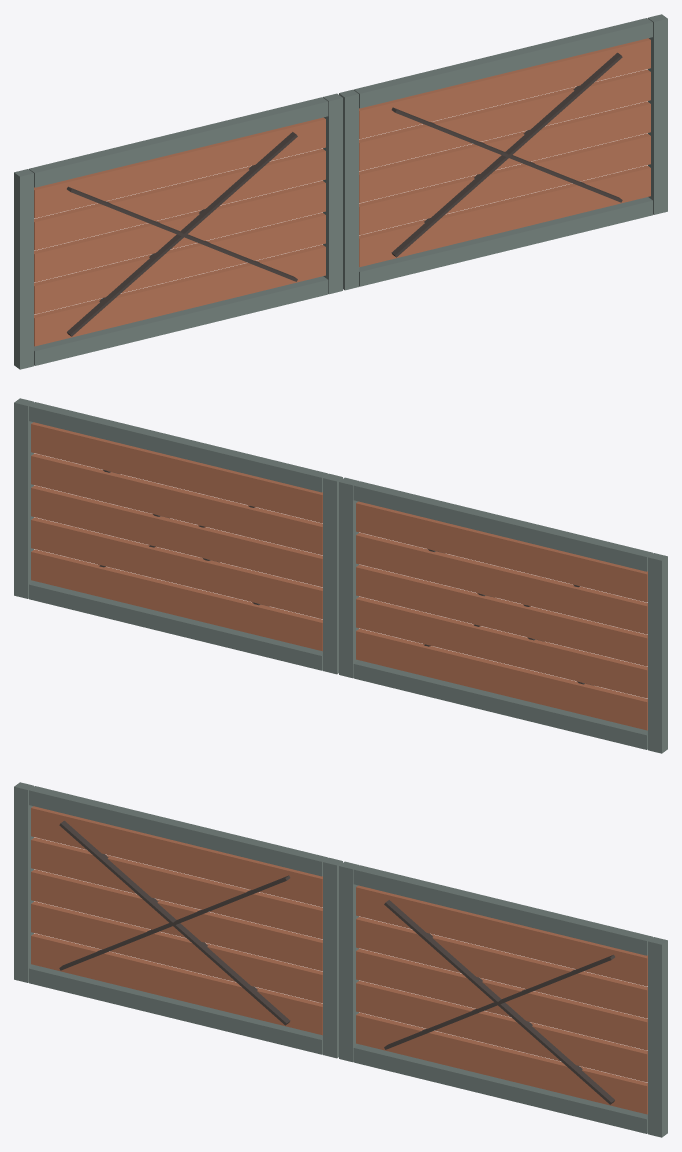
The model's file is SM_PuertaViaDoble_v2_Tablones_e0_Sano_LOD1.fbx.
The picture shows the model from 3 angles, top to bottom: view 1: azimuth 30°, elevation 25°; view 2: azimuth 150°, elevation 25°; view 3: azimuth 330°, elevation 25°; orthographic projection.
Visible parts, largest first — view 1: Hoja_O, Hoja_E; view 2: Hoja_O, Hoja_E; view 3: Hoja_E, Hoja_O.
Boxes of the visible parts, left/top/right/bottom form: Hoja_O: left=14, top=93, right=342, bottom=369; Hoja_E: left=339, top=14, right=667, bottom=290; Hoja_O: left=339, top=477, right=667, bottom=753; Hoja_E: left=14, top=398, right=342, bottom=674; Hoja_E: left=339, top=861, right=667, bottom=1137; Hoja_O: left=14, top=782, right=342, bottom=1058.
Size of what is drawn, in the model's own units: 7.38 by 2.1 by 0.17.
